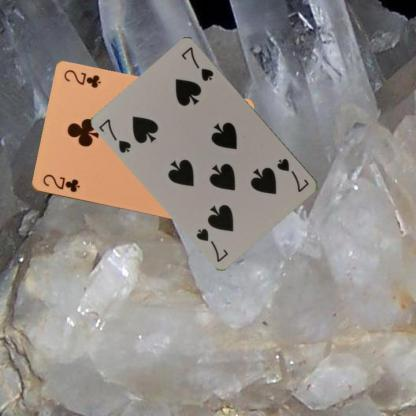2c: (40, 172, 81, 194)
7s: (274, 156, 311, 194), (96, 116, 133, 154)
